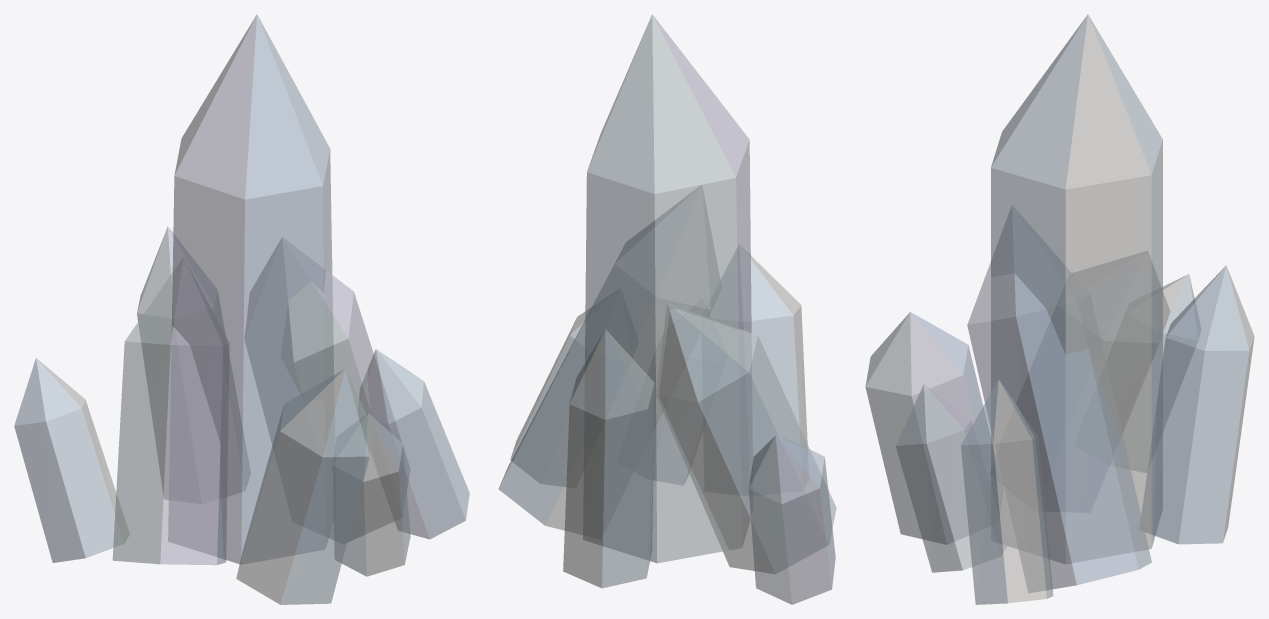
File: crystal-mature-v01.glb
The picture shows the model from 3 angles, left to right: view 1: azimuth 30°, elevation 25°; view 2: azimuth 150°, elevation 25°; view 3: azimuth 270°, elevation 25°; orthographic projection. The views are drawn at different scales.
Visible parts, largest first — view 1: Quartz_0, Quartz_1, Quartz_2, Quartz_3, Quartz_5, Quartz_6, Quartz_4, Quartz_7; view 2: Quartz_0, Quartz_1, Quartz_2, Quartz_7, Quartz_5, Quartz_3, Quartz_6, Quartz_4; view 3: Quartz_0, Quartz_2, Quartz_7, Quartz_3, Quartz_6, Quartz_4, Quartz_1, Quartz_5.
Part boxes in pixels (x1,y1,x2,y2): Quartz_0: (168,14,333,564); Quartz_1: (112,257,229,565); Quartz_2: (245,237,410,541); Quartz_3: (236,369,373,604); Quartz_5: (14,358,129,562); Quartz_6: (359,349,469,539); Quartz_4: (333,413,410,576); Quartz_7: (137,227,250,499); Quartz_0: (583,14,752,563); Quartz_1: (656,303,836,573); Quartz_2: (498,185,721,534); Quartz_7: (563,329,654,588); Quartz_5: (748,435,835,604); Quartz_3: (708,244,807,457); Quartz_6: (510,308,590,486); Quartz_4: (653,412,688,485); Quartz_0: (991,14,1162,563); Quartz_2: (967,205,1151,592); Quartz_7: (1141,265,1254,544); Quartz_3: (865,312,990,544); Quartz_6: (961,379,1053,604); Quartz_4: (896,384,1007,572); Quartz_1: (1072,251,1170,432); Quartz_5: (1123,274,1200,472).
Bounding box in the file's own units: 0.5001 × 0.6697 × 0.4371.
